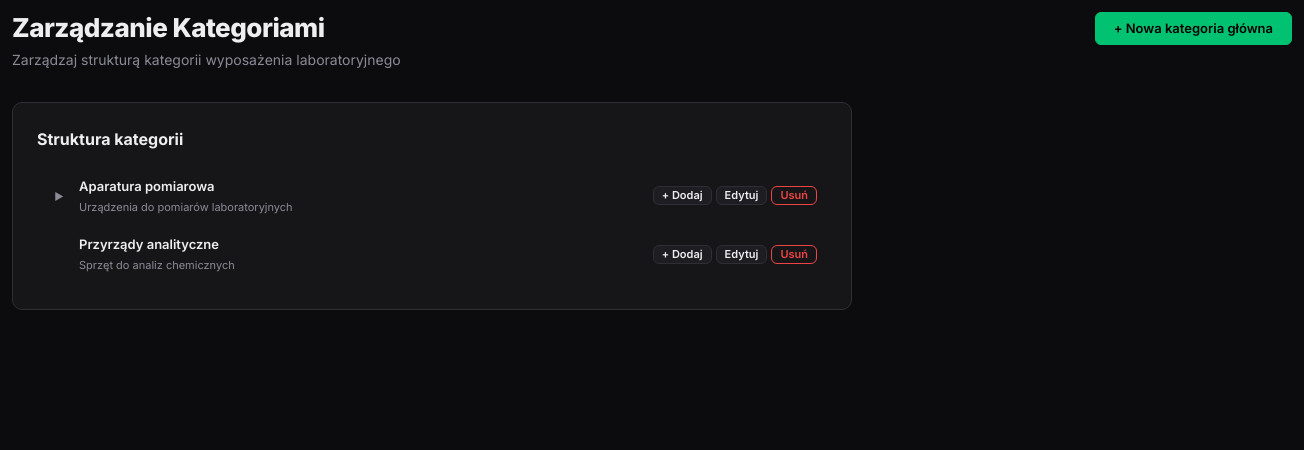
Test case: CategoriesPage › Form cancellation › should close subcategory form when Cancel clicked
Click the button "+ Dodaj" in the row of "Urządzenia do pomiarów laboratoryjnych": point(682, 196) [653,186,712,206]
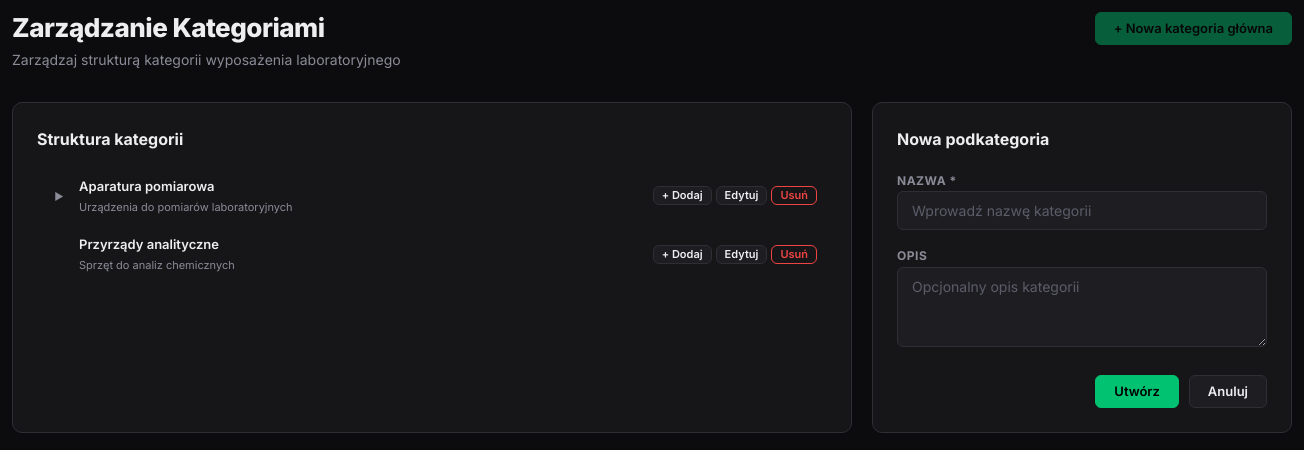
Click the button "Anuluj": point(1228, 392) [1189,375,1267,408]
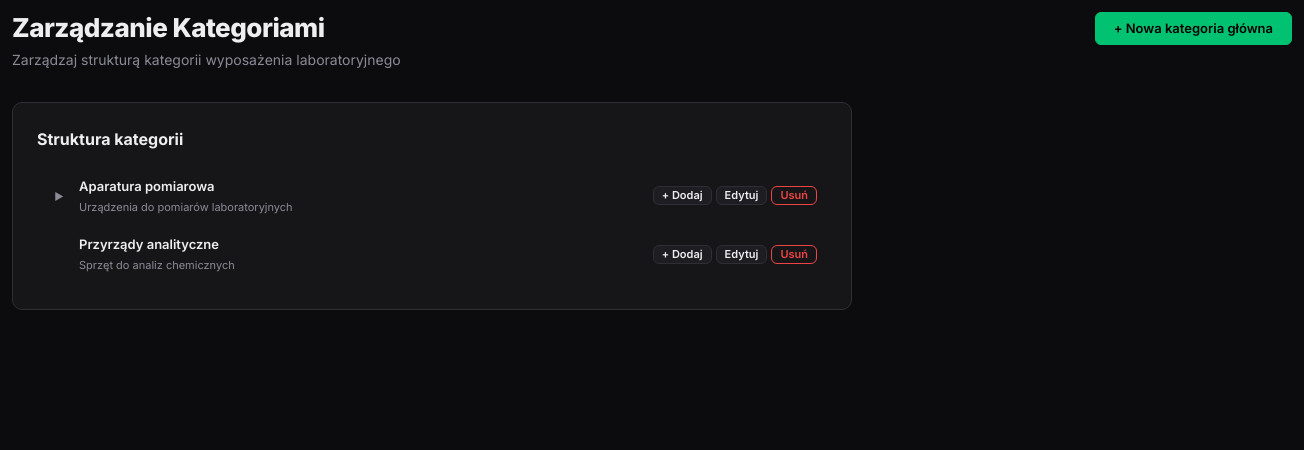
Now the heading "Nowa podkategoria" is gone
